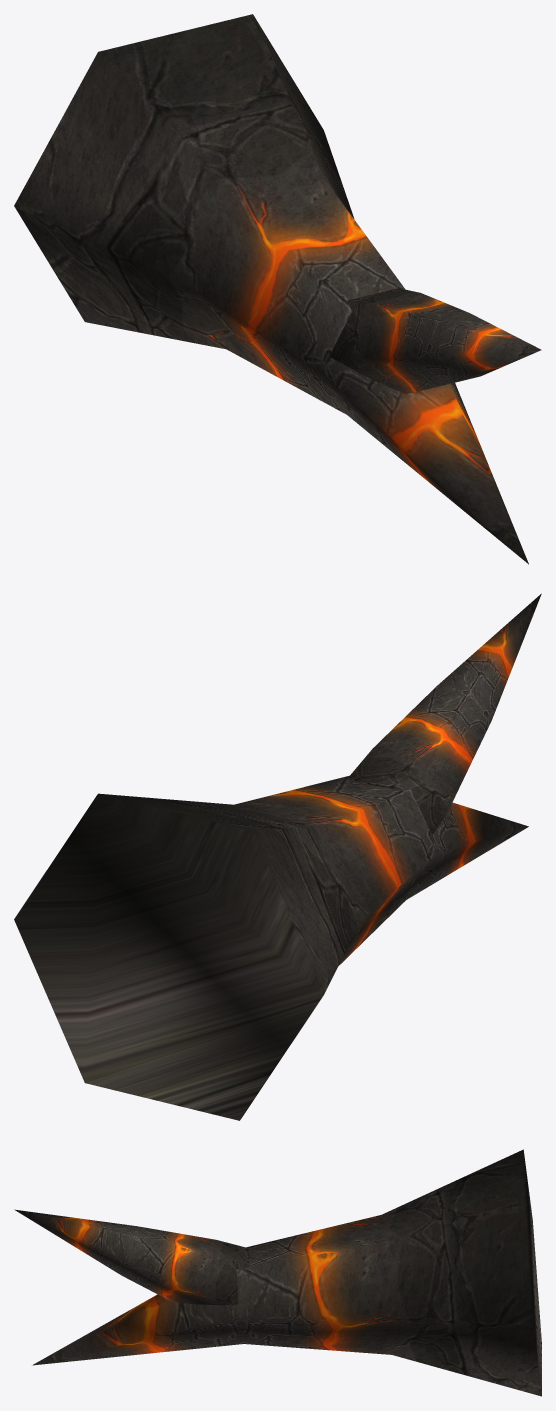
File: stalagmite_14.obj
3 renders of one model, top to bottom at view 1: azimuth 30°, elevation 25°; view 2: azimuth 150°, elevation 25°; view 3: azimuth 270°, elevation 25°, orthographic. The views are drawn at different scales.
Visible parts, largest first — view 1: (null); view 2: (null); view 3: (null).
Part boxes in pixels (<box>): (null): <box>14,14,541,564</box>; (null): <box>14,593,541,1120</box>; (null): <box>14,1149,541,1396</box>.
Bounding box in the file's own units: 2.64 × 2.28 × 5.6.
